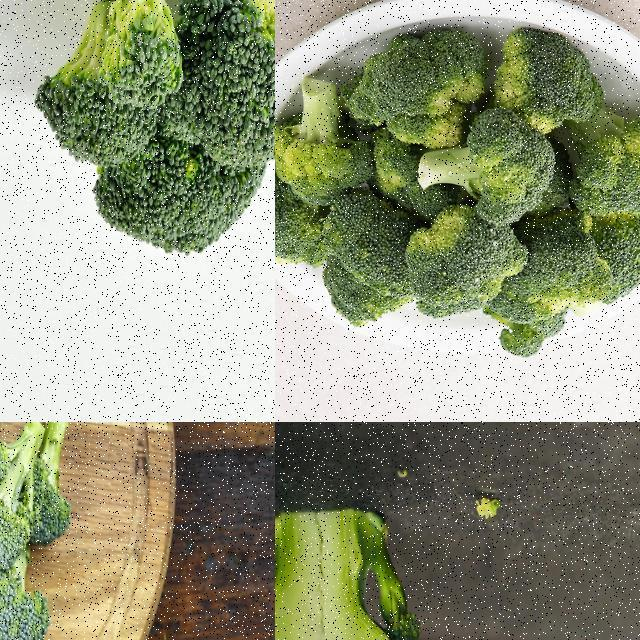broccoli: (275, 33, 639, 355), (30, 0, 274, 264), (275, 498, 481, 639), (20, 422, 81, 555), (0, 422, 44, 567), (0, 537, 47, 639)
